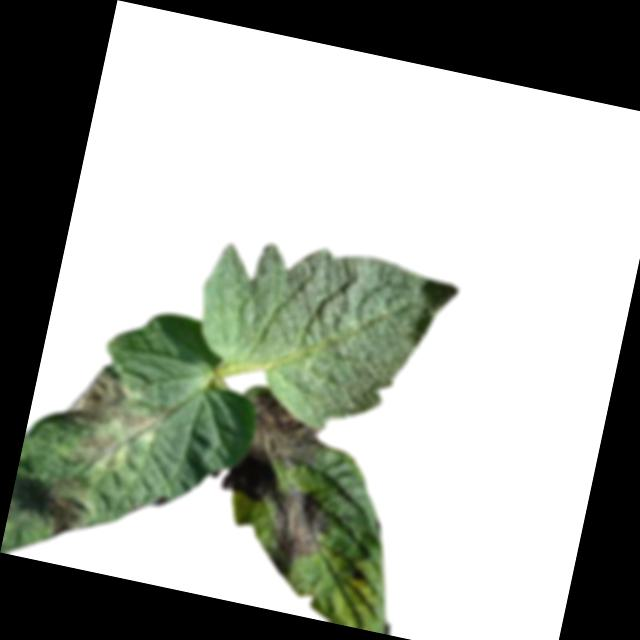Late_blight: (208, 454, 343, 568), (63, 359, 166, 437), (241, 393, 326, 474), (40, 482, 95, 546), (69, 419, 132, 473)
